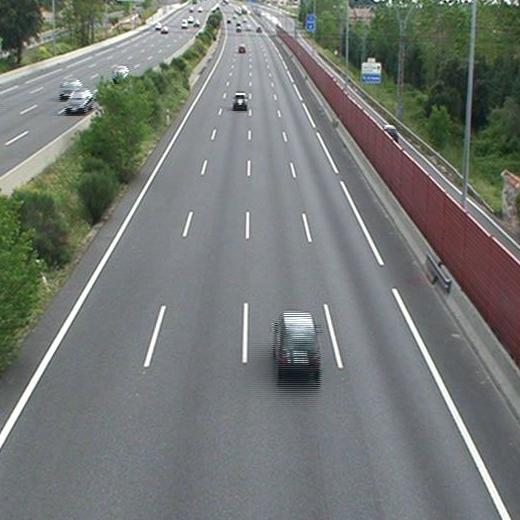car: (274, 312, 320, 370), (234, 92, 247, 107), (237, 44, 246, 53)
